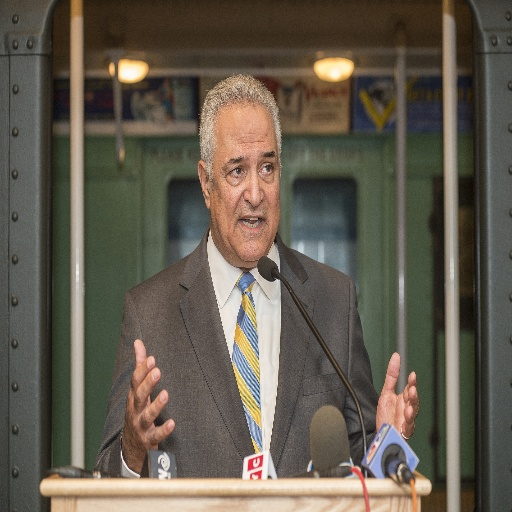hand: (123, 337, 176, 473), (374, 349, 419, 445)
